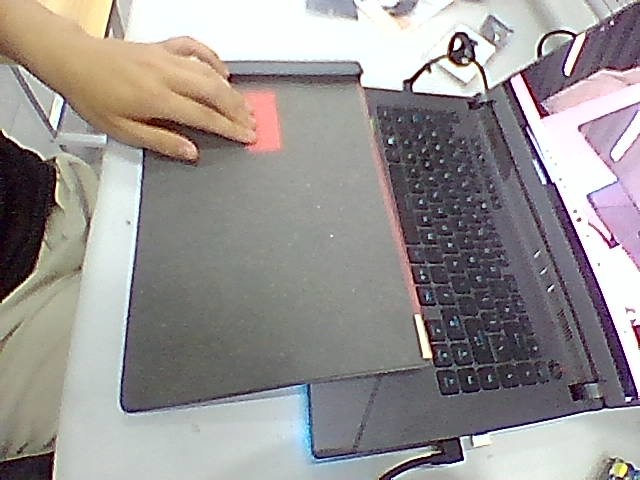card: (246, 90, 281, 152)
